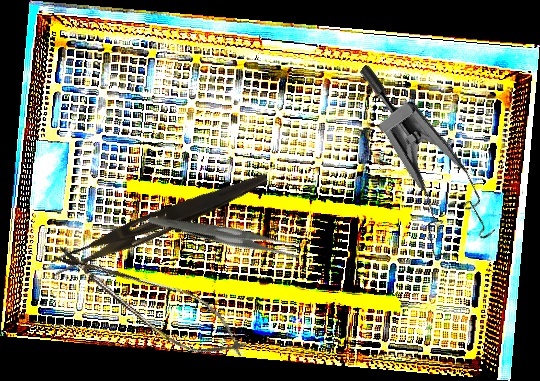Dressing Forceps: (49, 161, 271, 284), (147, 171, 306, 296)
Micro Scissor: (44, 231, 256, 373)
Speculum: (299, 61, 525, 276)
